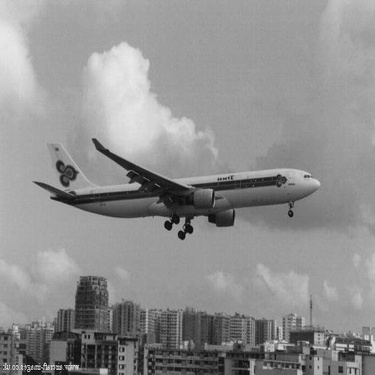airplane: (14, 109, 327, 251)
